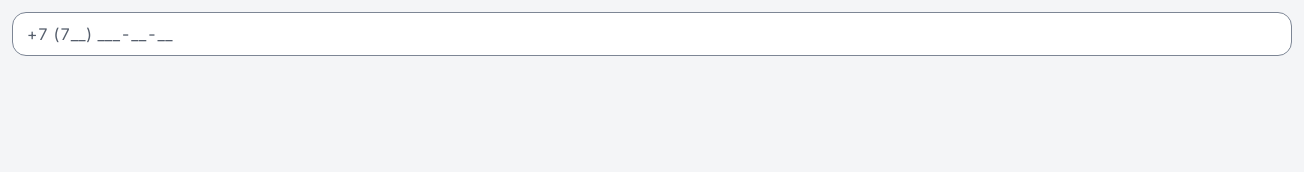
<PhoneInput> › emits an empty string when cleared
The image size is (1304, 172).
In the field named "Phone": (652, 34) left=12, top=12, right=1292, bottom=56, type "7"
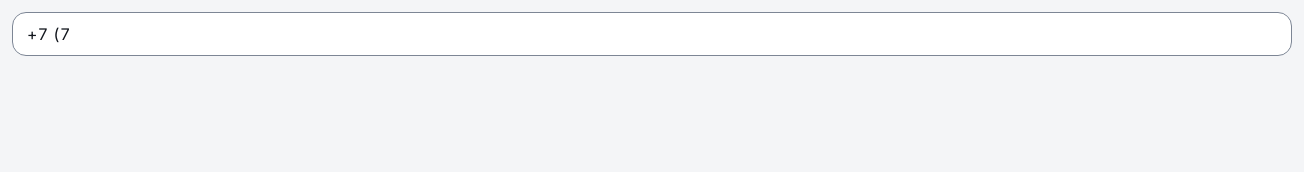
Expected: the field named "Phone" holds "+7 (7"
Replace the text in the field named "Phone" with "+7 (": (652, 34) left=12, top=12, right=1292, bottom=56
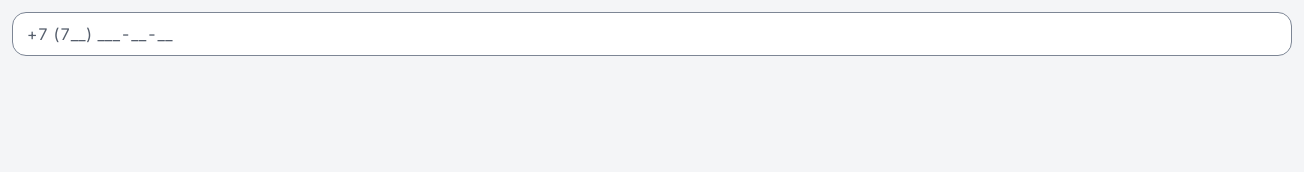
Expected: the field named "Phone" is empty, left=12, top=12, right=1292, bottom=56
